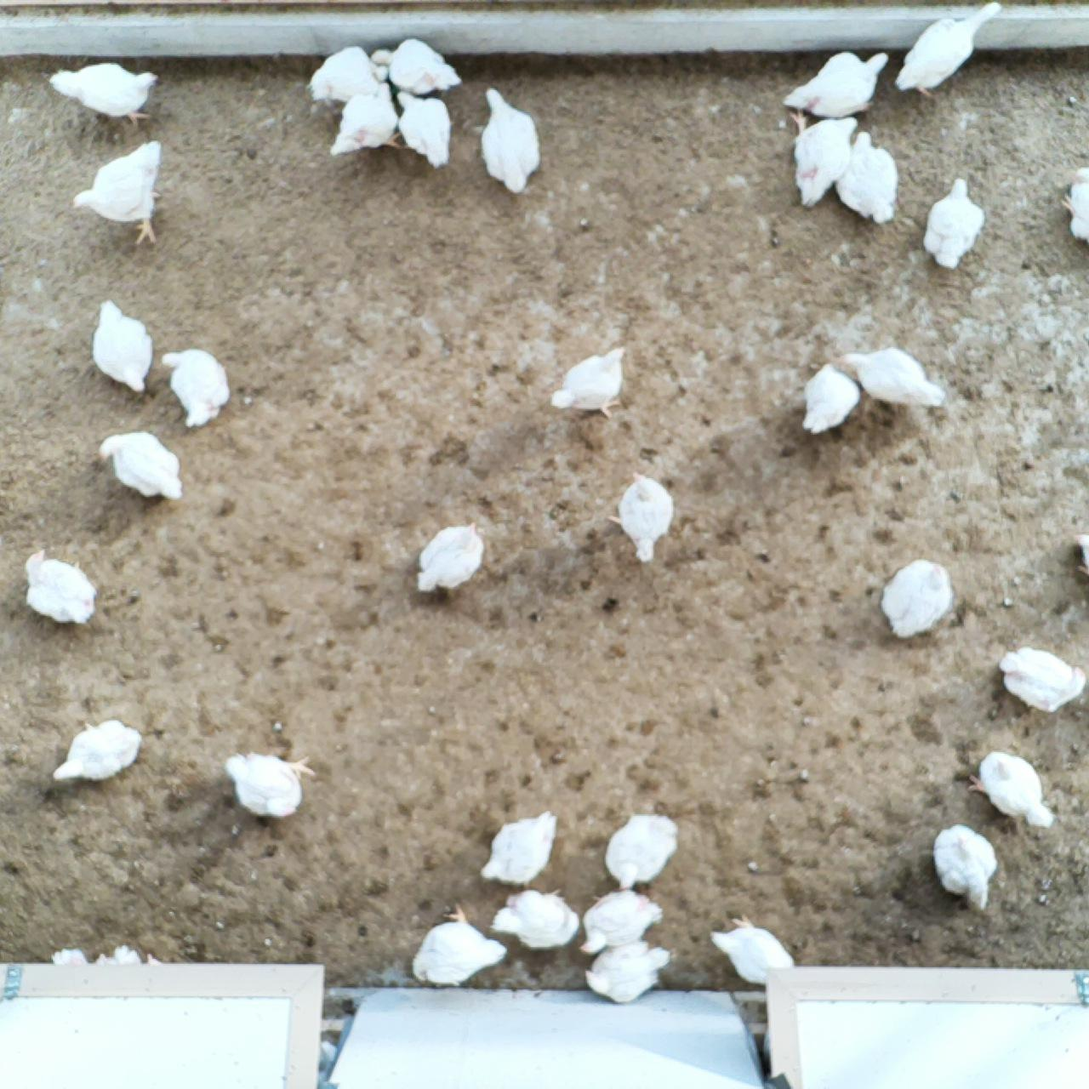chicken: (893, 0, 1010, 102), (67, 134, 168, 249), (405, 902, 513, 990), (43, 59, 166, 130), (963, 745, 1060, 832), (782, 45, 894, 119), (834, 345, 952, 412), (476, 81, 543, 198), (706, 909, 799, 993), (603, 467, 681, 564), (792, 106, 862, 213), (478, 804, 567, 888), (829, 128, 903, 227), (46, 717, 146, 788), (87, 295, 157, 395), (222, 747, 315, 822), (96, 429, 188, 504), (18, 547, 103, 628), (994, 642, 1088, 715), (325, 77, 408, 159), (922, 173, 990, 273), (577, 885, 673, 955), (879, 557, 956, 644), (158, 345, 235, 431), (580, 936, 672, 1007), (932, 818, 998, 916), (547, 342, 632, 417), (600, 811, 678, 891), (412, 516, 485, 600), (309, 42, 394, 110), (493, 887, 583, 951), (370, 37, 464, 96), (391, 86, 456, 170), (800, 358, 862, 437), (1058, 164, 1089, 246), (91, 940, 164, 974), (51, 944, 91, 967)
